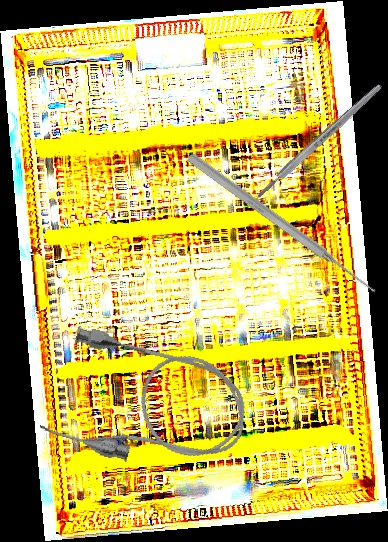Cannula: (36, 322, 259, 486)
Pusher: (184, 150, 381, 299)
Scalpel Handle: (253, 81, 385, 202)
